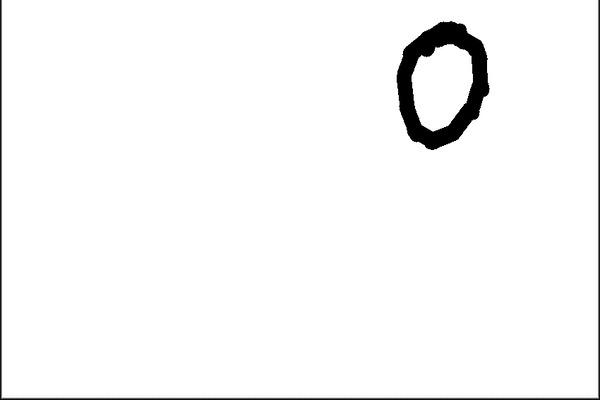O: (392, 14, 495, 156)
